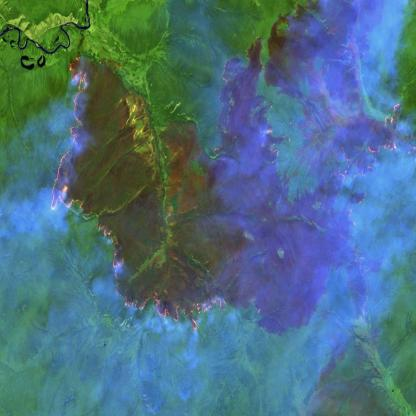fire: (46, 51, 416, 332)
